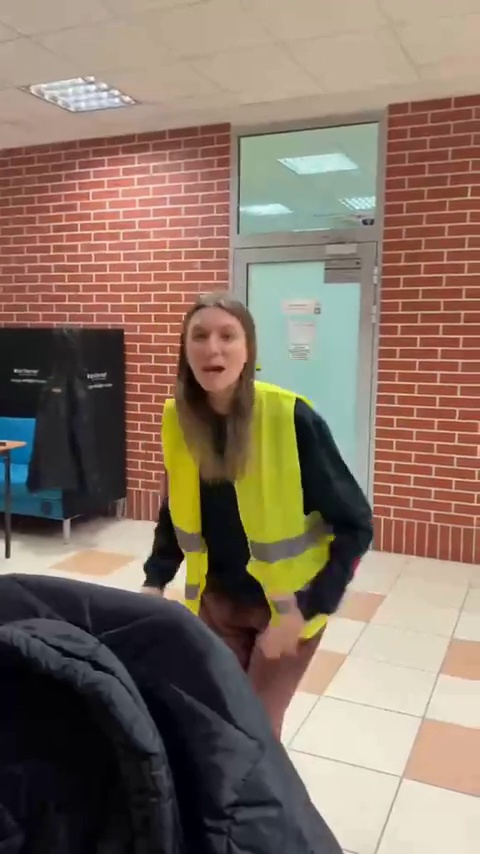vest: (174, 292, 372, 698)
